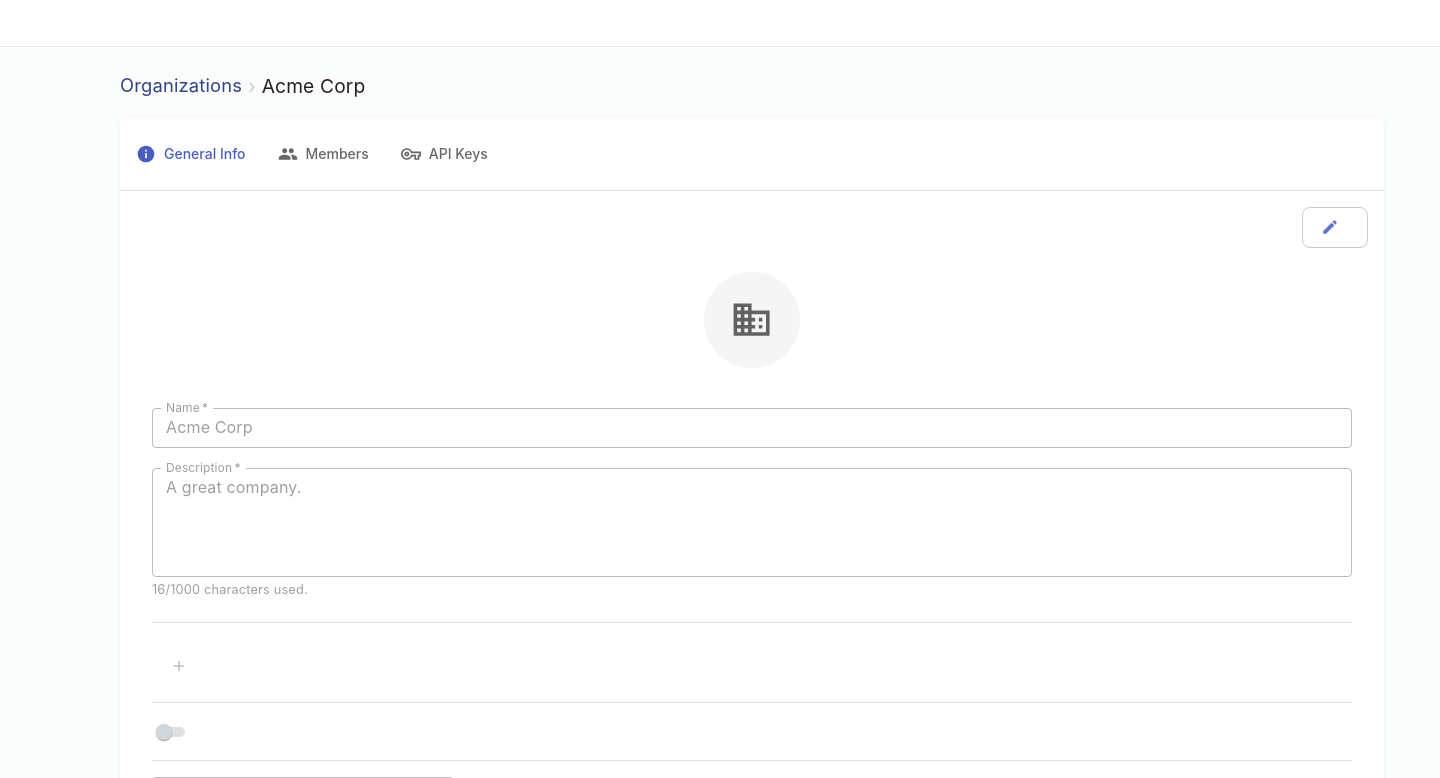
Test: Organization API keys tab › marks a revoked key and offers no revoke action
The width and height of the screenshot is (1440, 778).
Click the tab "API Keys" at (444, 154), box [385, 118, 504, 190]
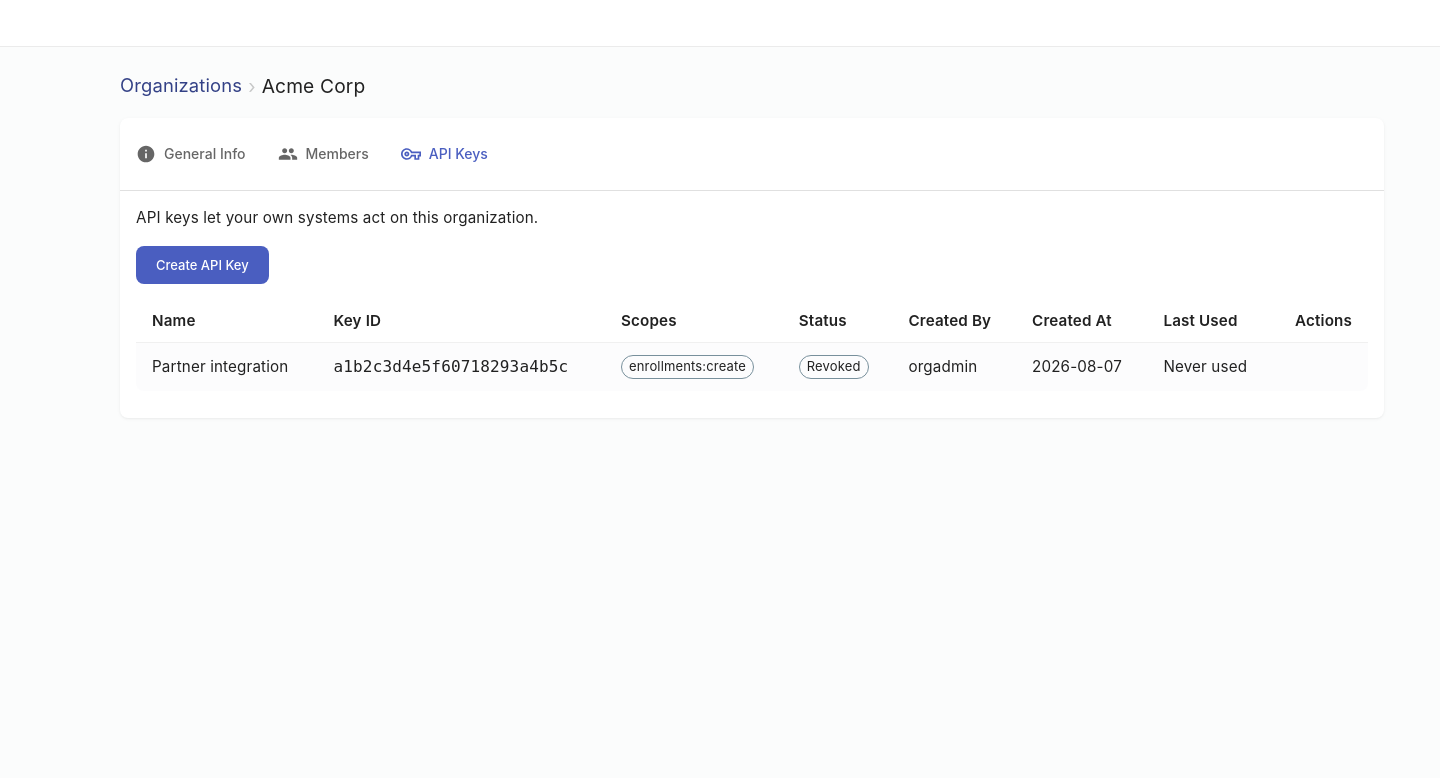
Check: the text "Revoked" is shown, box [807, 358, 861, 374]
